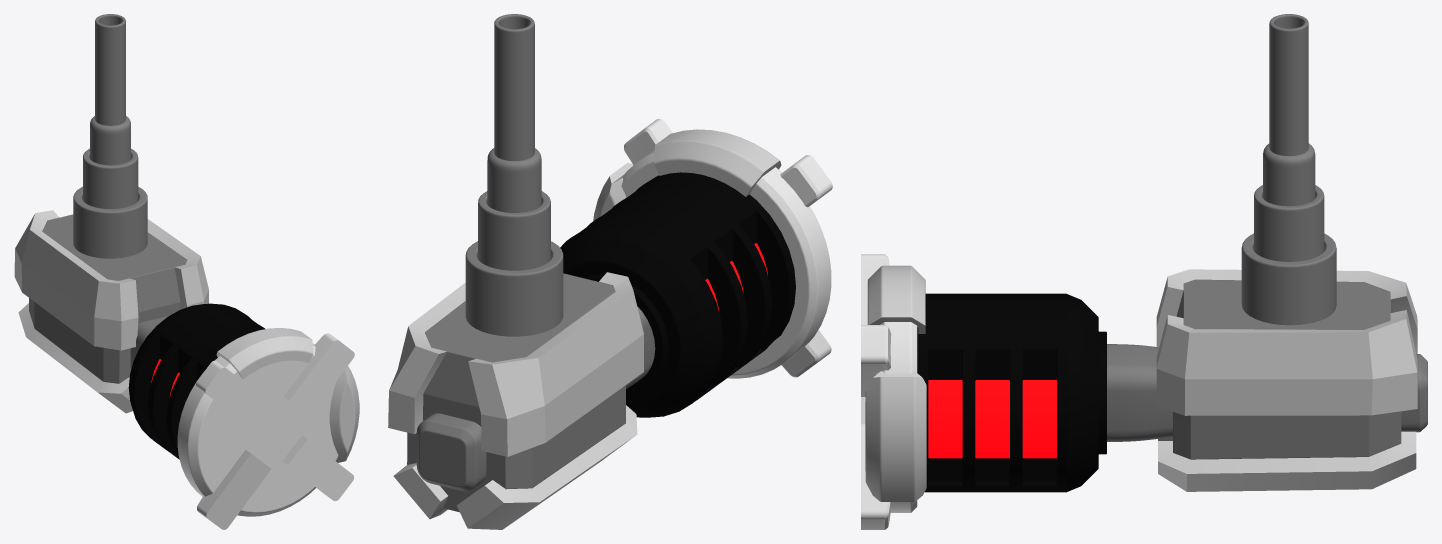
The model's file is LaserShooter3.fbx.
3 renders of one model, left to right at view 1: azimuth 30°, elevation 25°; view 2: azimuth 150°, elevation 25°; view 3: azimuth 270°, elevation 25°, orthographic. The views are drawn at different scales.
Visible parts, largest first — view 1: Cylinder.002, ok, Cylinder.005, Cube.004, Cylinder.006_Plate.002, Cylinder.006_Plate, Cylinder.004, Cube.007, Cube.006, Cylinder.006_Plate.001, Cube.005, Cube.008 (+4 smaller); view 2: Cylinder.005, ok, Cube.004, Cylinder.002, Cylinder.006_Plate.002, Cube.009, Cylinder.006_Plate, Cube.003, Cylinder.004, Cylinder.006_Plate.001, Cylinder.006, Cube.005 (+3 smaller); view 3: Cylinder.005, ok, Cube.004, Cube.009, Cylinder.007, Cylinder.001, Cylinder.006_Plate.002, Cube.003, Cylinder.006_Plate, Cylinder.006_Plate.001, Cylinder.004, Cylinder.006 (+4 smaller).
Boxes of the visible parts, box(x1,y1,x2,y2) form: Cylinder.002: box(177, 343, 338, 516); ok: box(14, 210, 208, 350); Cylinder.005: box(128, 303, 264, 459); Cube.004: box(29, 214, 187, 383); Cylinder.006_Plate.002: box(73, 186, 147, 258); Cylinder.006_Plate: box(95, 14, 125, 125); Cylinder.004: box(216, 328, 313, 378); Cube.007: box(284, 333, 354, 416); Cube.006: box(197, 449, 271, 529); Cylinder.006_Plate.001: box(83, 148, 138, 208); Cube.005: box(196, 360, 271, 428); Cube.008: box(282, 435, 353, 501); Cylinder.005: box(560, 172, 795, 417); ok: box(388, 272, 643, 456); Cube.004: box(407, 273, 625, 512); Cylinder.002: box(621, 150, 831, 378); Cylinder.006_Plate.002: box(465, 241, 563, 336); Cube.009: box(393, 405, 637, 529); Cylinder.006_Plate: box(494, 14, 534, 161); Cube.003: box(416, 306, 655, 491); Cylinder.004: box(654, 129, 781, 196); Cylinder.006_Plate.001: box(478, 191, 550, 270); Cylinder.006: box(487, 148, 541, 212); Cube.005: box(780, 155, 832, 207); Cylinder.005: box(917, 293, 1106, 492); ok: box(1156, 269, 1417, 415); Cube.004: box(1173, 279, 1401, 459); Cube.009: box(1158, 431, 1416, 491); Cylinder.007: box(928, 380, 1056, 458); Cylinder.001: box(865, 371, 926, 501); Cylinder.006_Plate.002: box(1241, 233, 1336, 325); Cube.003: box(1107, 344, 1427, 441); Cylinder.006_Plate: box(1269, 14, 1308, 156); Cylinder.006_Plate.001: box(1254, 185, 1324, 261); Cylinder.004: box(867, 265, 925, 333); Cylinder.006: box(1263, 143, 1315, 206).
Size of the model in its own units: 1202 by 2552 by 2730.
